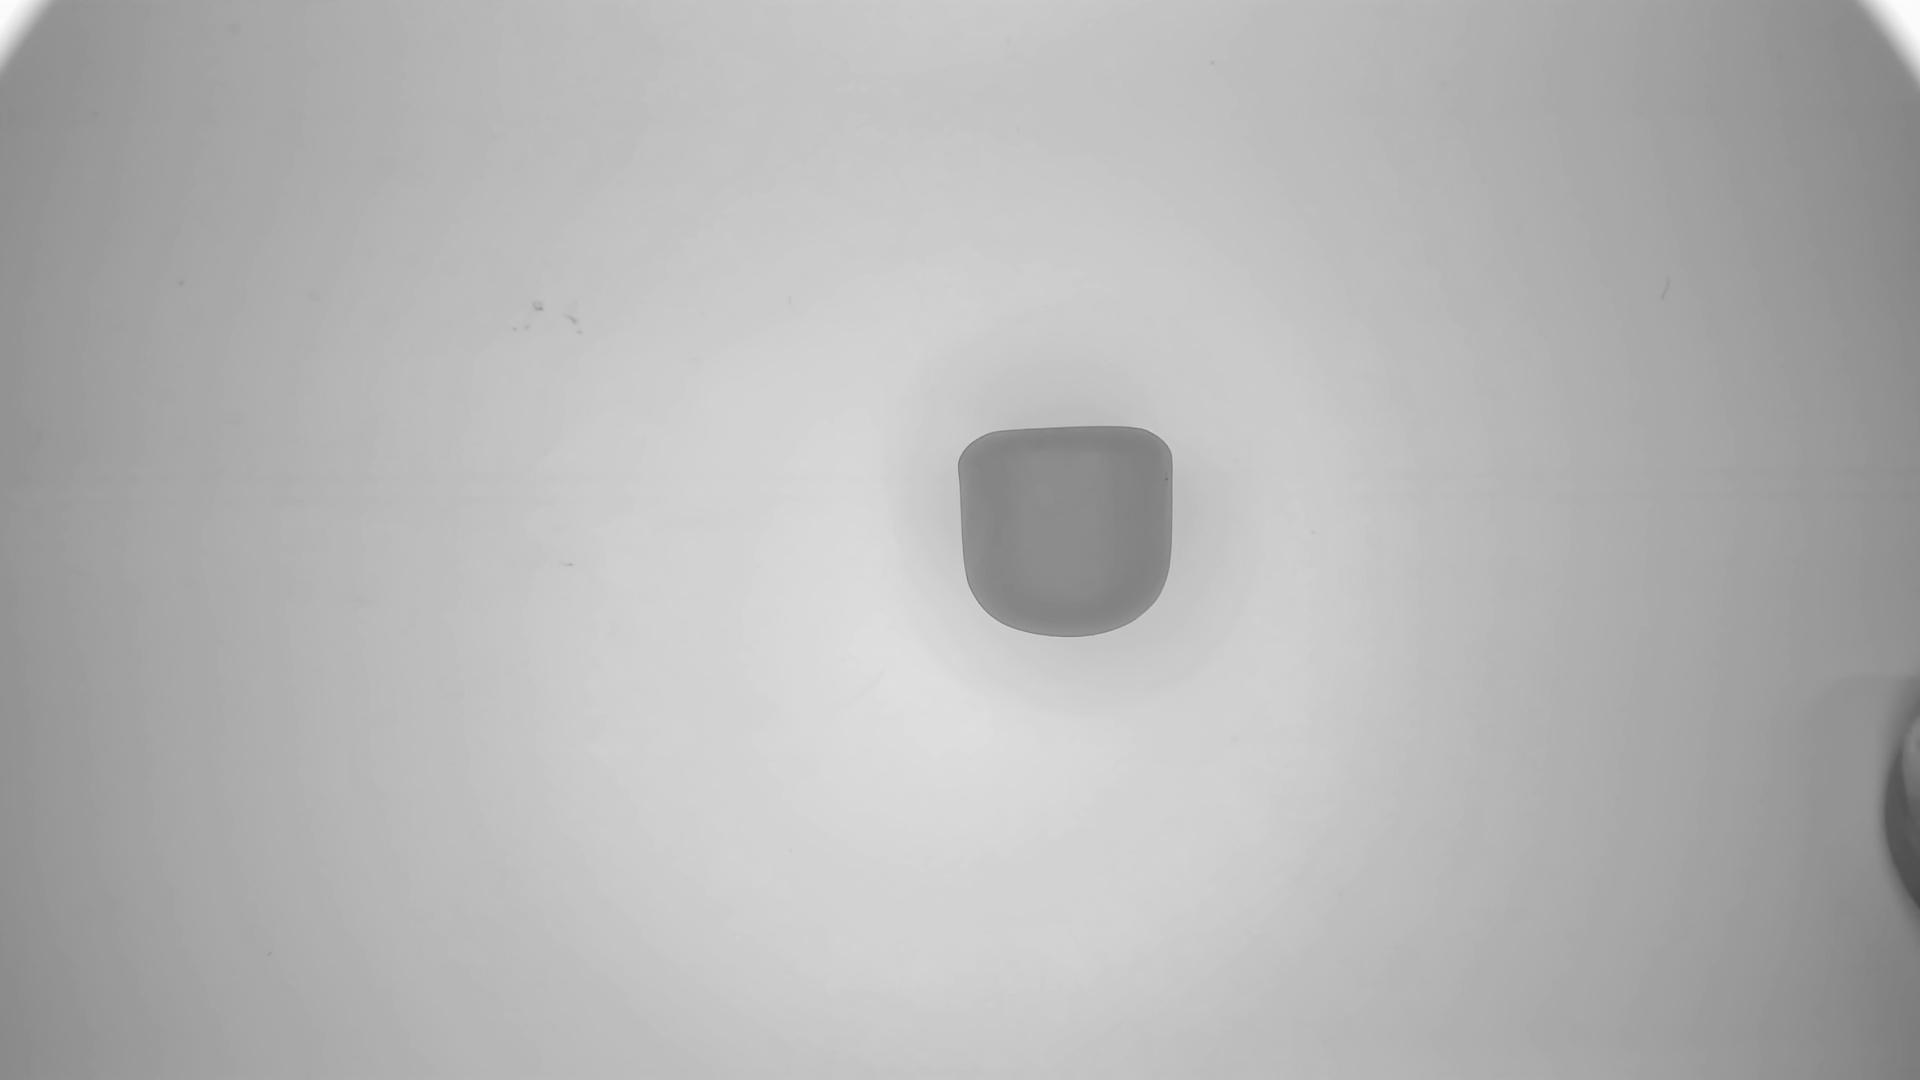normal: (956, 425, 1178, 640)
